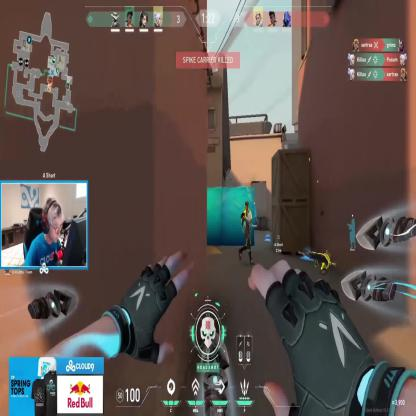enemy: (238, 200, 253, 266)
enemy_head: (245, 202, 249, 212)
